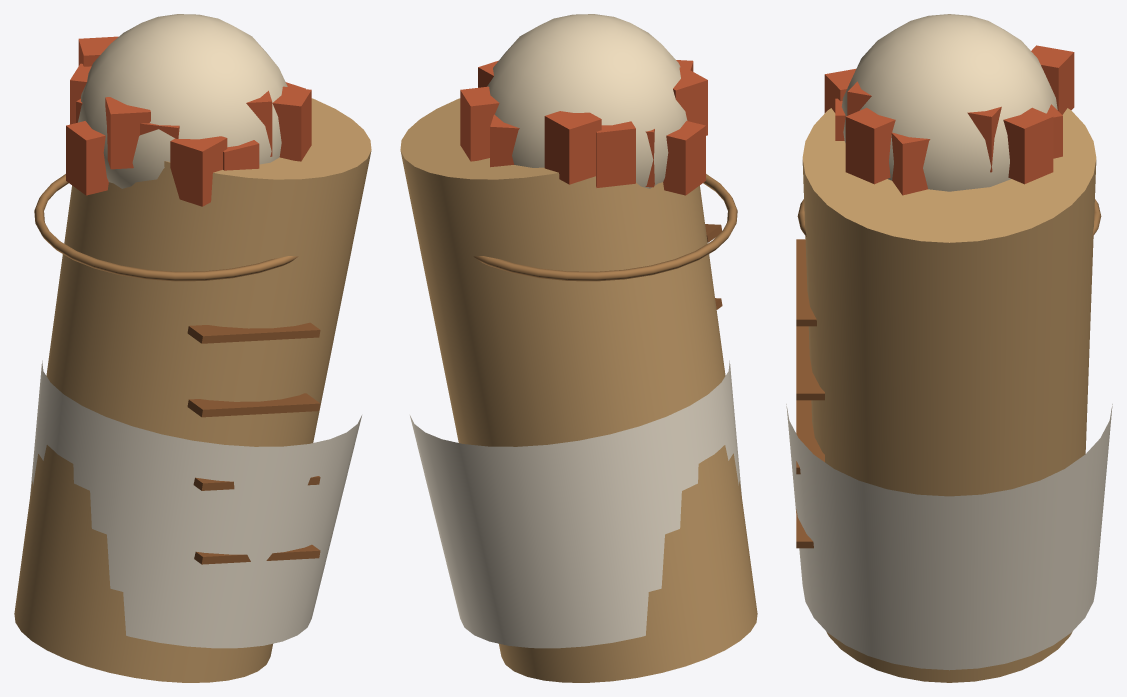
Rendered from shawarma.glb.
3 renders of one model, left to right at view 1: azimuth 30°, elevation 25°; view 2: azimuth 150°, elevation 25°; view 3: azimuth 270°, elevation 25°, orthographic.
Parts seen in each view (by area): view 1: shawarma, Filling; view 2: shawarma, Filling; view 3: shawarma, Filling.
Boxes of the visible parts, <box> form: shawarma: <box>14,14,371,682</box>; Filling: <box>66,36,311,206</box>; shawarma: <box>400,14,757,682</box>; Filling: <box>460,60,707,195</box>; shawarma: <box>786,14,1112,682</box>; Filling: <box>824,45,1074,195</box>.
Size of the model in its own units: 0.9107 by 1.69 by 0.8.
